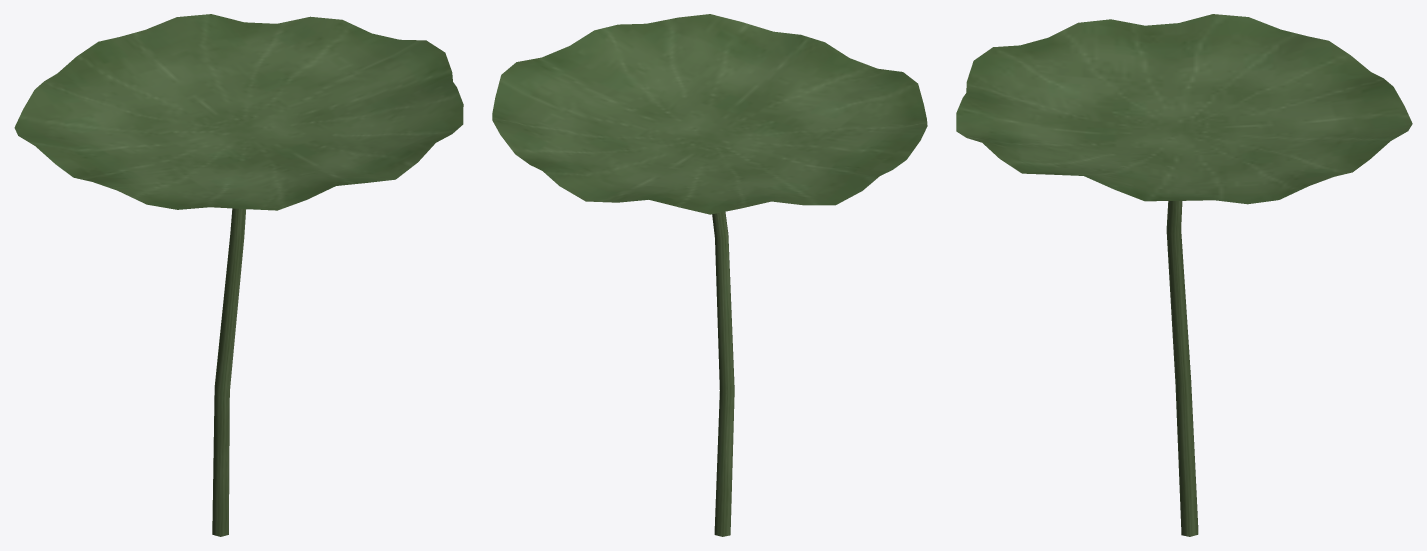
Rendered from lotus_leaf_flat.glb.
3 renders of one model, left to right at view 1: azimuth 30°, elevation 25°; view 2: azimuth 150°, elevation 25°; view 3: azimuth 270°, elevation 25°, orthographic. The views are drawn at different scales.
Parts seen in each view (by area): view 1: lotus_leaf_flat; view 2: lotus_leaf_flat; view 3: lotus_leaf_flat.
Part boxes in pixels (left/top/right/bottom): lotus_leaf_flat: left=14, top=14, right=463, bottom=536; lotus_leaf_flat: left=492, top=14, right=927, bottom=536; lotus_leaf_flat: left=956, top=14, right=1412, bottom=536.
Bounding box in the file's own units: 0.4926 × 0.5245 × 0.4825.
Materials: 1 (1 with a texture image).
